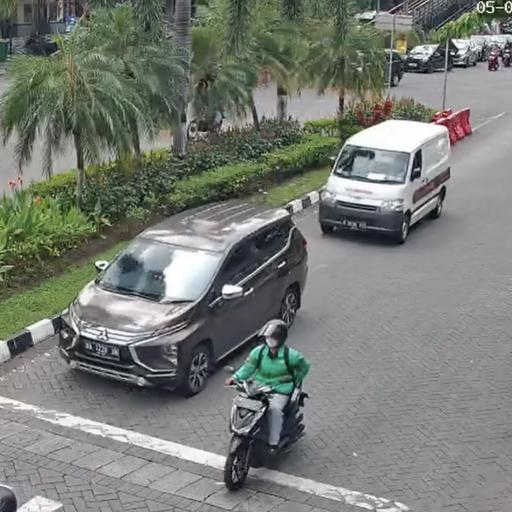mobil: (62, 198, 306, 385), (321, 119, 452, 244)
motor: (222, 366, 308, 496)
